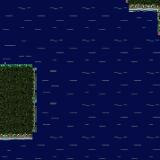Interaction: (119, 0, 160, 14), (150, 0, 160, 39)
Slow: (38, 0, 129, 160), (129, 13, 160, 160), (0, 0, 36, 62), (0, 140, 38, 160)
